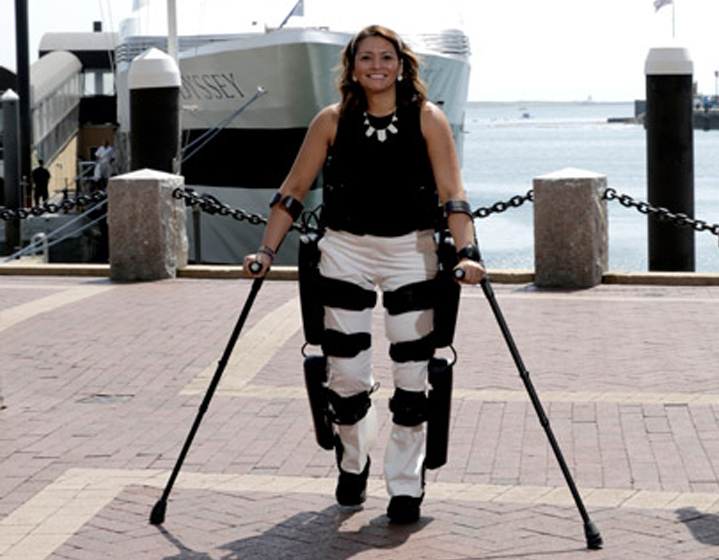feet: (326, 451, 433, 539)
